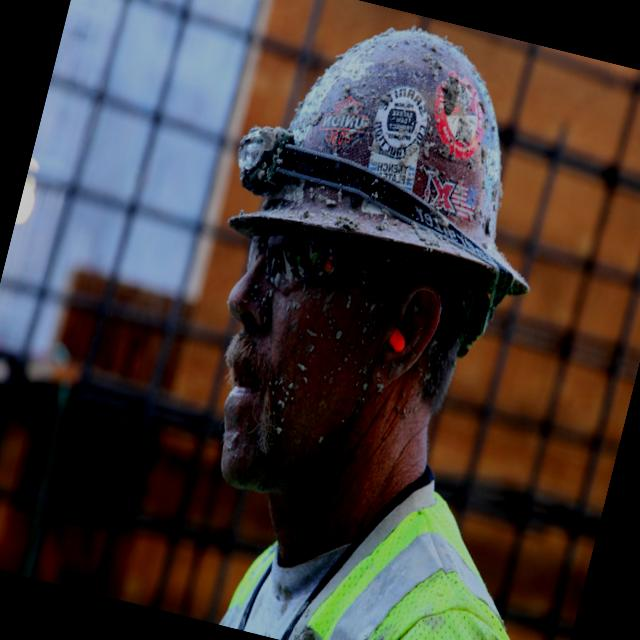goggles: (214, 197, 429, 335)
helmet: (210, 0, 593, 308)
vest: (200, 423, 587, 640)
